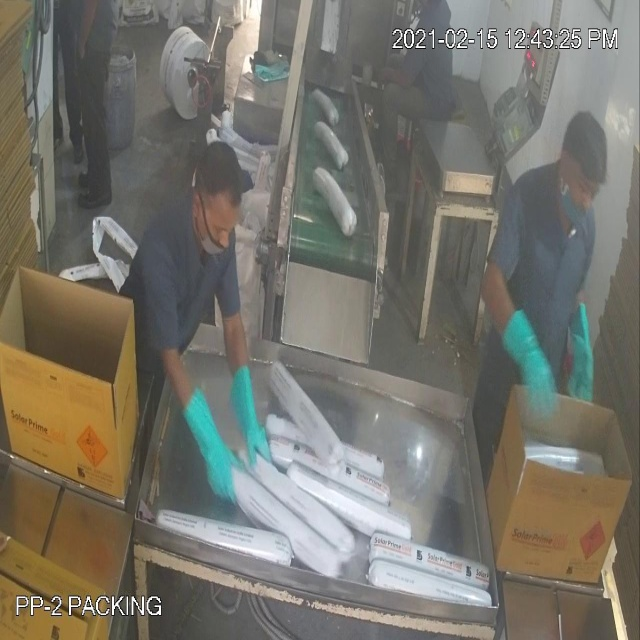Guantes: (500, 298, 561, 430), (182, 376, 242, 509), (228, 360, 270, 475)
Sin_guantes: (369, 52, 428, 110)
